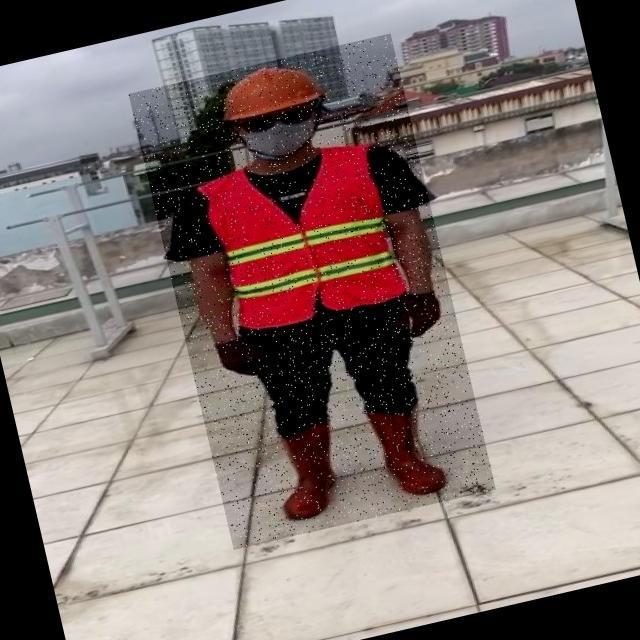Gloves: (211, 329, 274, 384), (389, 286, 450, 342)
Helmet: (208, 54, 326, 129)
Human: (129, 33, 496, 550)
Safety Boot: (363, 396, 448, 502), (266, 420, 349, 522)
Safety Vest: (199, 140, 408, 336)
